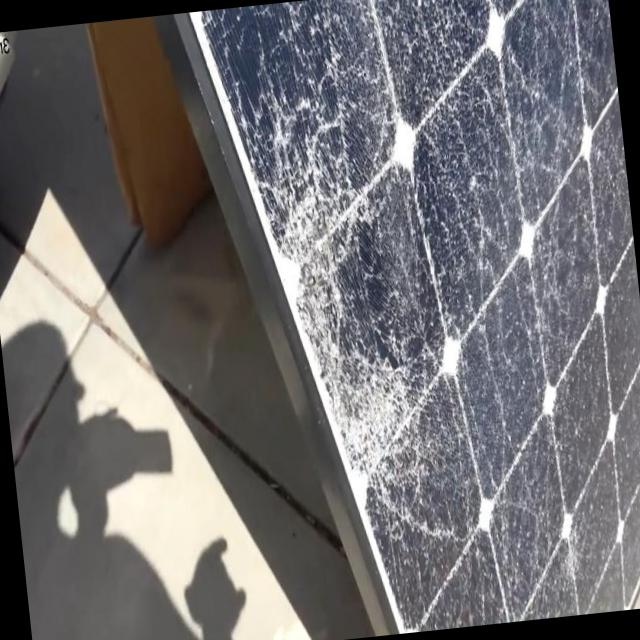faulty: (205, 0, 640, 633)
